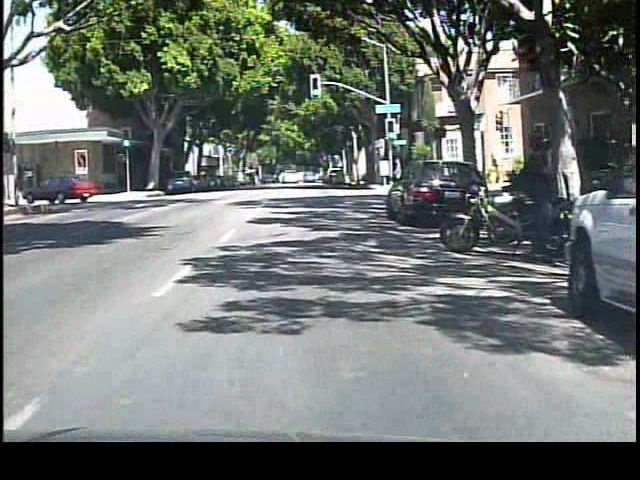person: (510, 125, 557, 268), (388, 154, 405, 190)
